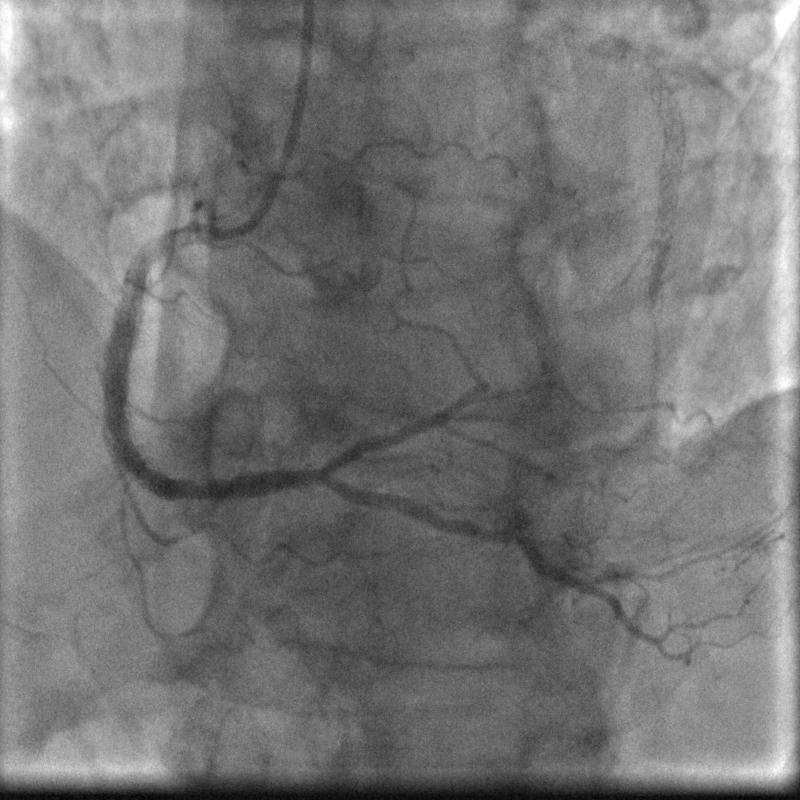Stenosis: (151, 215, 202, 260)
